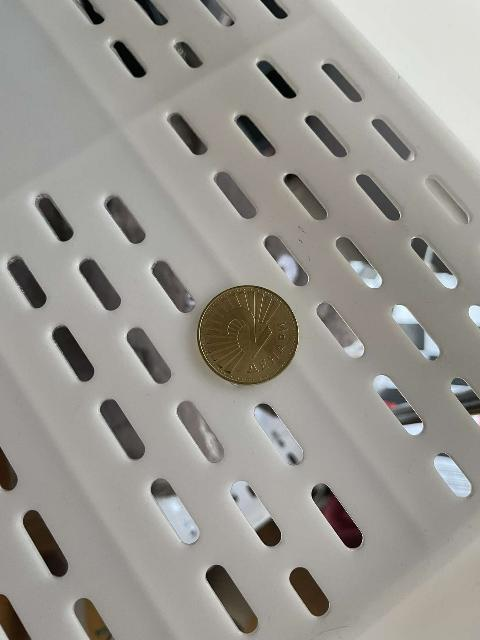2_coin: (198, 286, 298, 383)
